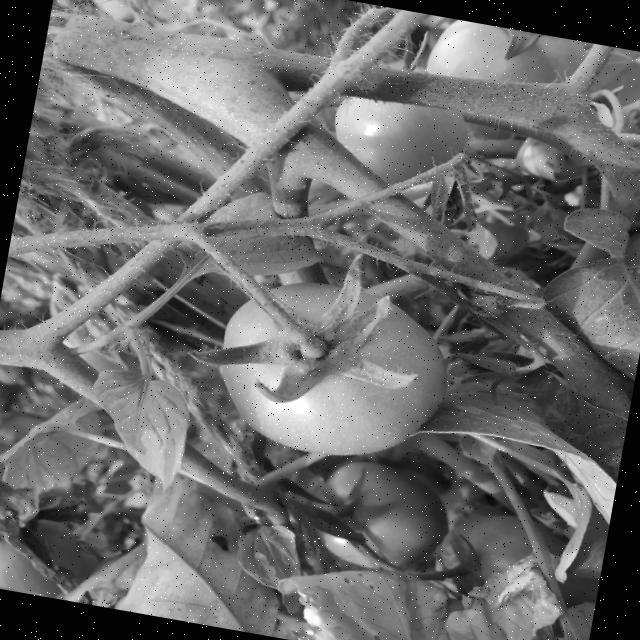Unripe: (202, 266, 464, 475)
